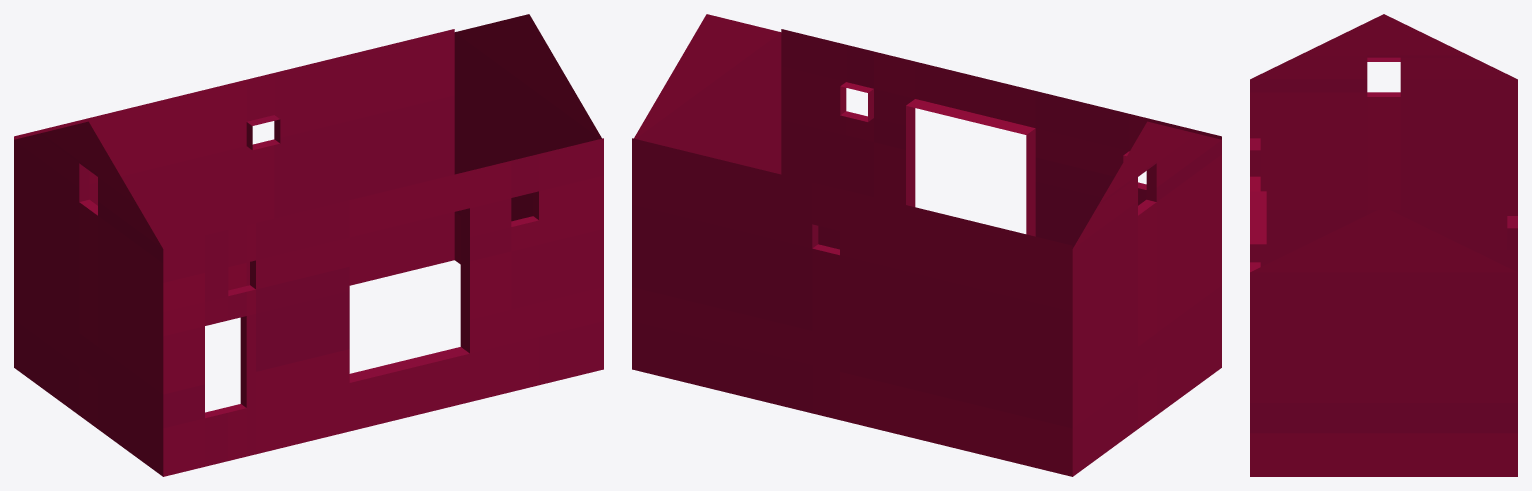
The model's file is SM_Bld_094_Masonry.glb.
3 views of the same model, side by side, from view 1: azimuth 30°, elevation 25°; view 2: azimuth 150°, elevation 25°; view 3: azimuth 270°, elevation 25° (orthographic). The views are drawn at different scales.
Parts seen in each view (by area): view 1: SM_Bld_094_Masonry; view 2: SM_Bld_094_Masonry; view 3: SM_Bld_094_Masonry.
Part boxes in pixels (x1,y1,x2,y2): SM_Bld_094_Masonry: [14, 14, 603, 476]; SM_Bld_094_Masonry: [632, 14, 1221, 476]; SM_Bld_094_Masonry: [1250, 14, 1517, 476].
Bounding box in the file's own units: 9.51 × 6.2 × 5.58.
